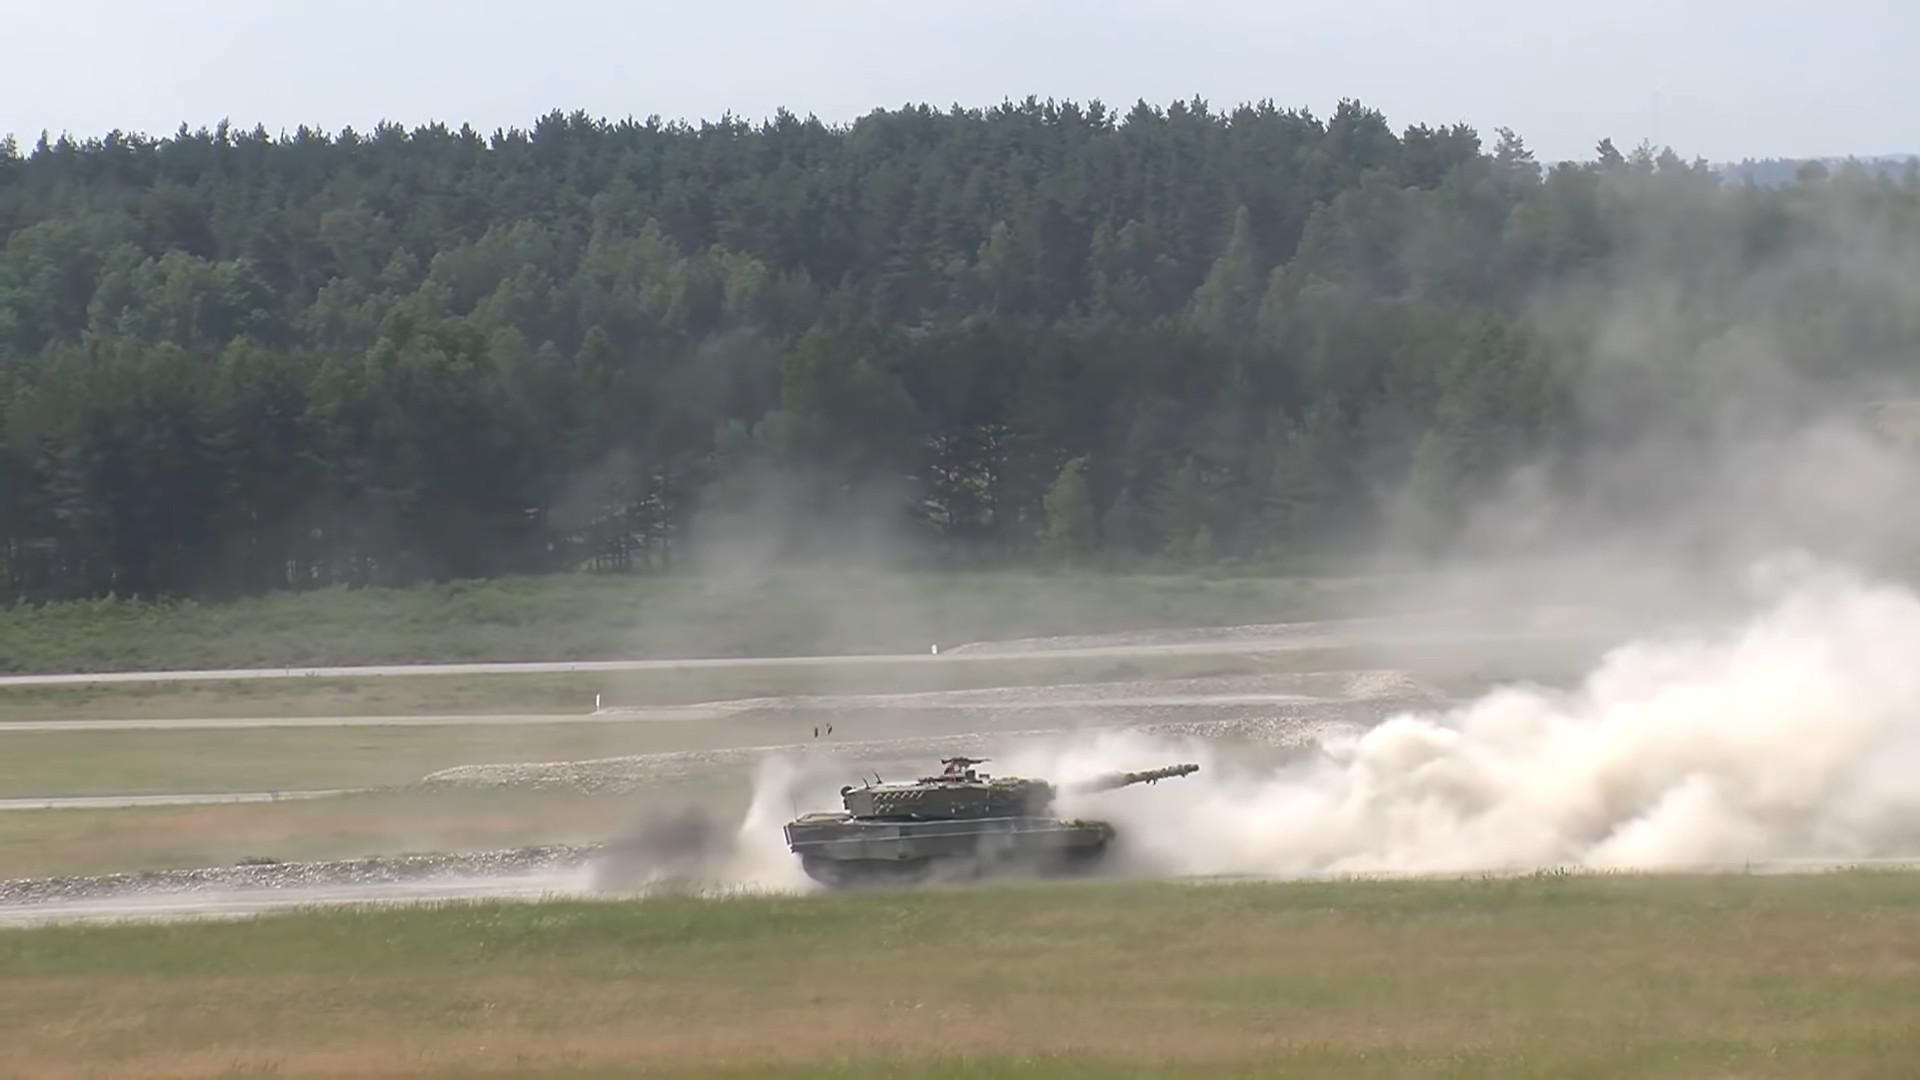tank: (787, 764, 1199, 887)
